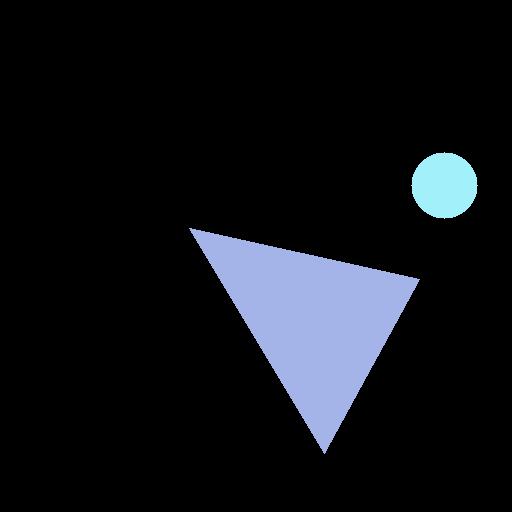circle: (411, 152, 477, 218)
triangle: (189, 228, 419, 453)
